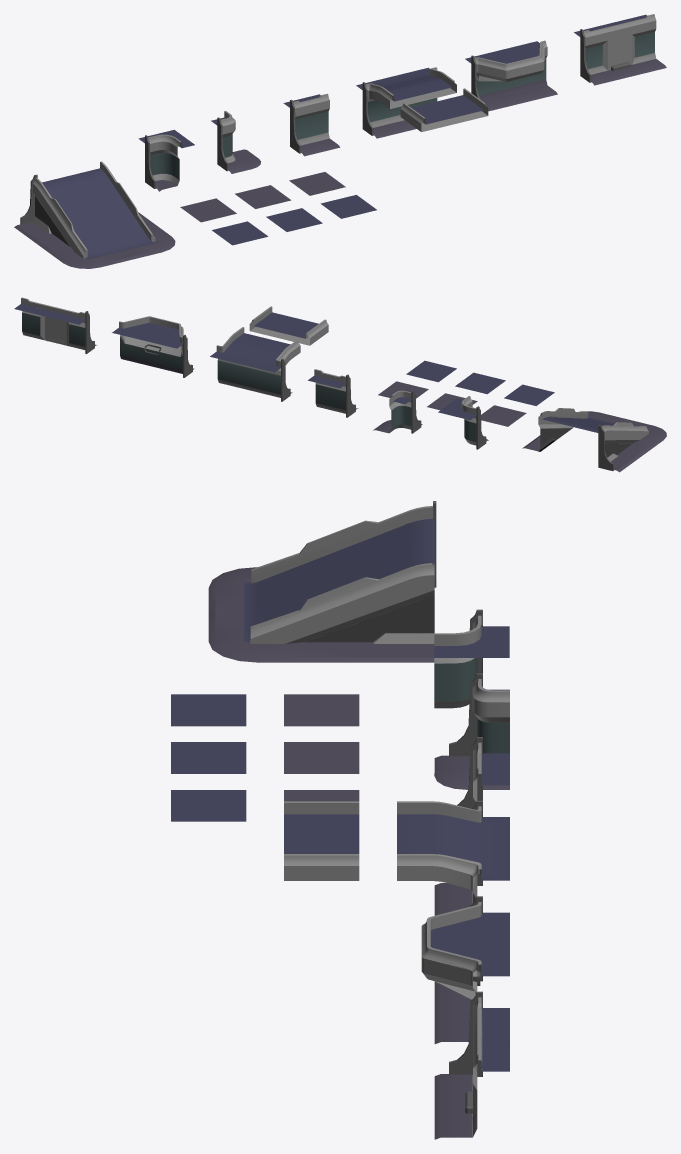
File: Structural Master.fbx
3 views of the same model, one above another, from view 1: azimuth 30°, elevation 25°; view 2: azimuth 150°, elevation 25°; view 3: azimuth 270°, elevation 25° (orthographic). The views are drawn at different scales.
Visible parts, largest first — view 1: Structural_Ramp, Structural_Wall-C, Structural_Wall-B, Structural_Bridge, Structural_Wall-A, Structural_Bridge-extension, Structural_Corner-inner, Structural_Corner-outer, Structural_Ground-A, Structural_Ground-B, Structural_Ground-C, Structural_Platform-A (+2 smaller); view 2: Structural_Ramp, Structural_Bridge, Structural_Wall-B, Structural_Wall-C, Structural_Bridge-extension, Structural_Wall-A, Structural_Corner-outer, Structural_Corner-inner, Structural_Platform-C, Structural_Platform-B, Structural_Platform-A, Structural_Ground-A (+2 smaller); view 3: Structural_Ramp, Structural_Bridge, Structural_Wall-B, Structural_Bridge-extension, Structural_Wall-C, Structural_Corner-inner, Structural_Corner-outer, Structural_Ground-A, Structural_Platform-A, Structural_Ground-B, Structural_Platform-B, Structural_Platform-C (+2 smaller).
Part boxes in pixels (x1,y1,x2,y2): Structural_Ramp: (14, 161, 175, 268); Structural_Wall-C: (574, 14, 666, 85); Structural_Wall-B: (465, 40, 557, 111); Structural_Bridge: (356, 67, 456, 138); Structural_Wall-A: (283, 93, 340, 156); Structural_Bridge-extension: (400, 88, 488, 132); Structural_Corner-inner: (138, 129, 194, 191); Structural_Corner-outer: (211, 111, 260, 173); Structural_Ground-A: (180, 198, 236, 222); Structural_Ground-B: (235, 185, 291, 208); Structural_Ground-C: (289, 172, 345, 195); Structural_Platform-A: (212, 221, 267, 245); Structural_Ramp: (522, 408, 666, 472); Structural_Bridge: (210, 327, 300, 401); Structural_Wall-B: (112, 316, 194, 377); Structural_Wall-C: (14, 297, 97, 353); Structural_Bridge-extension: (249, 306, 328, 345); Structural_Wall-A: (308, 369, 358, 417); Structural_Corner-outer: (373, 390, 422, 433); Structural_Corner-inner: (438, 396, 488, 449); Structural_Platform-C: (406, 360, 456, 382); Structural_Platform-B: (455, 372, 505, 394); Structural_Platform-A: (504, 384, 554, 405); Structural_Ground-A: (481, 405, 526, 426); Structural_Ramp: (208, 501, 436, 662); Structural_Bridge: (397, 800, 509, 915); Structural_Wall-B: (421, 896, 509, 1043); Structural_Bridge-extension: (284, 801, 359, 880); Structural_Wall-C: (434, 991, 509, 1139); Structural_Corner-inner: (434, 609, 509, 708); Structural_Corner-outer: (434, 673, 509, 789); Structural_Ground-A: (284, 694, 359, 726); Structural_Platform-A: (171, 694, 246, 726); Structural_Ground-B: (284, 742, 359, 773); Structural_Platform-B: (171, 742, 246, 773); Structural_Platform-C: (171, 790, 246, 821).
Bounding box in the file's own units: 3600 × 260 × 900.
